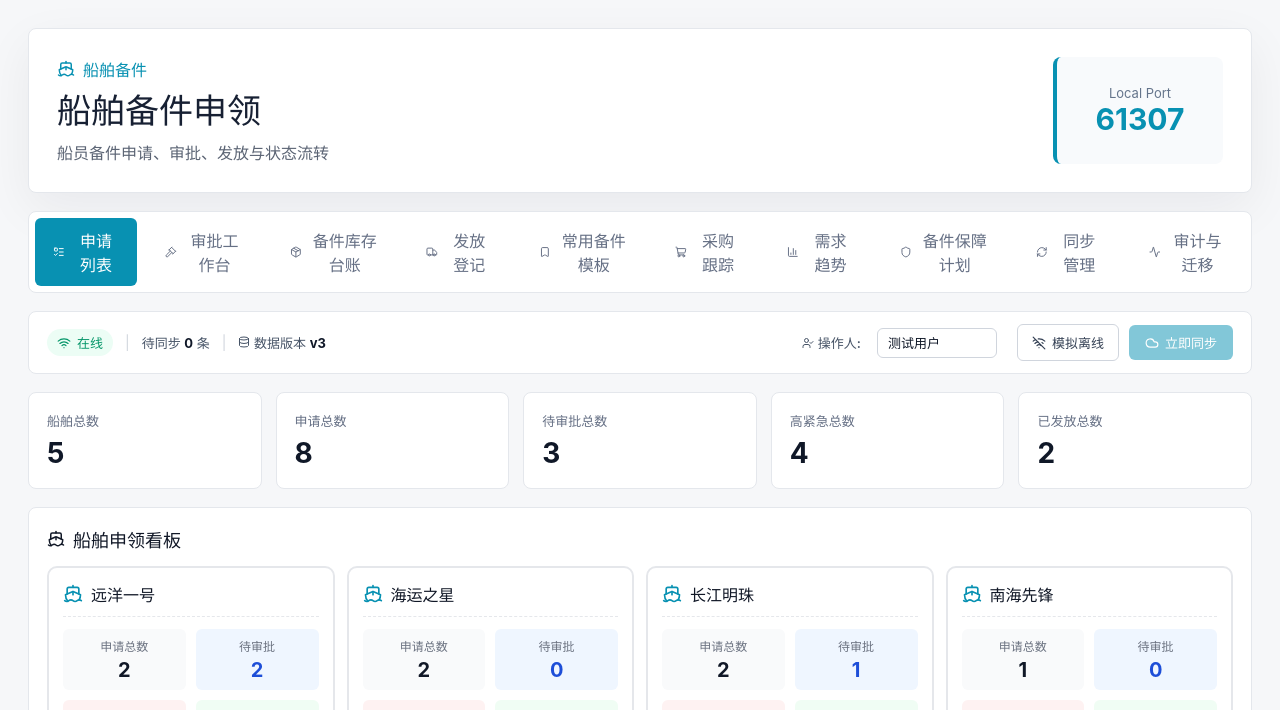
it: App 冒烟测试 › 点击常用备件模板标签应切换到模板页面
Step 1. Click the button "常用备件模板" → (584, 252), box [521,218,647,286]
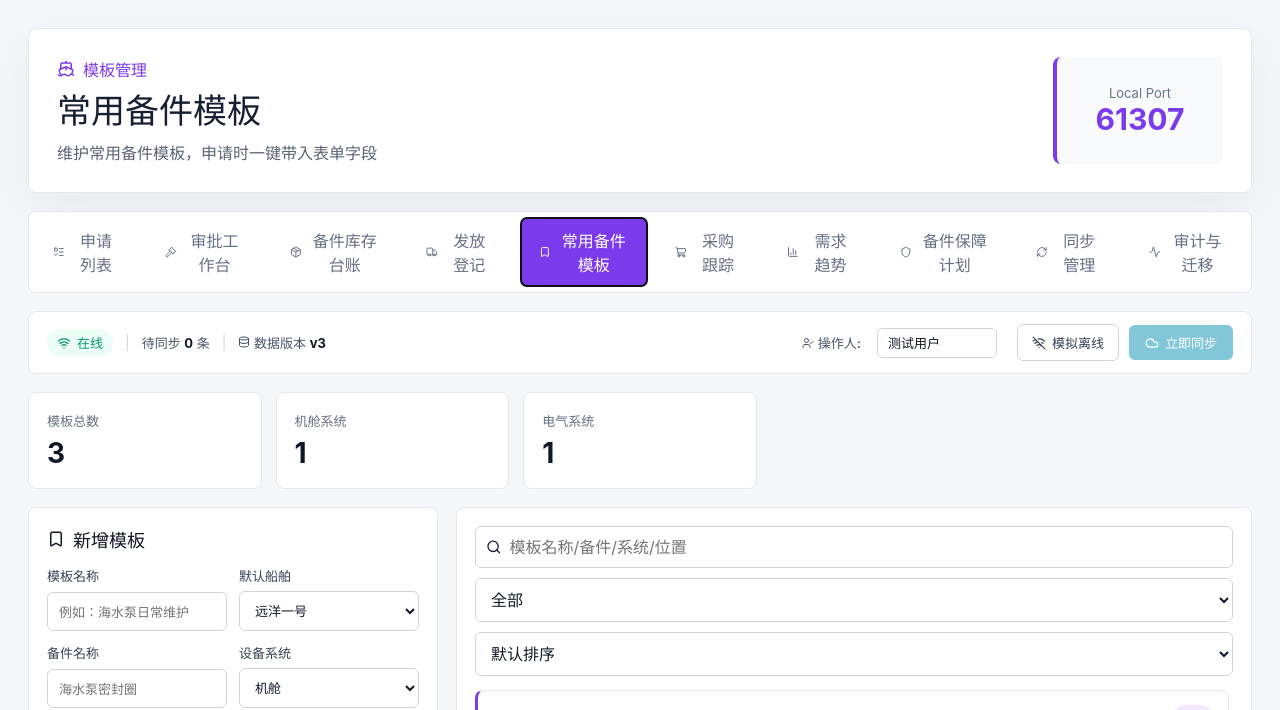
Now the heading "常用备件模板" is shown, box [57,90,261,131]
